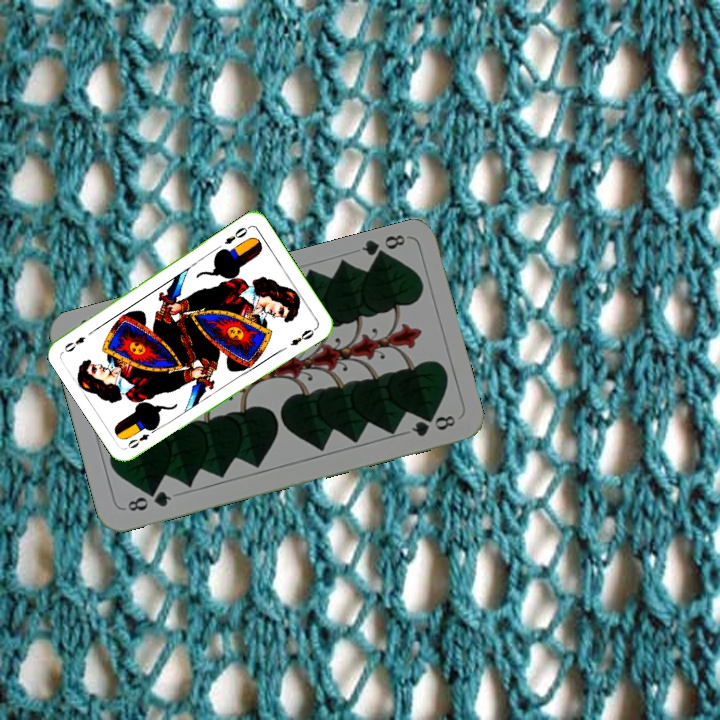EO: (220, 222, 253, 247), (124, 430, 152, 451)
G8: (357, 230, 408, 264), (123, 486, 174, 514)
